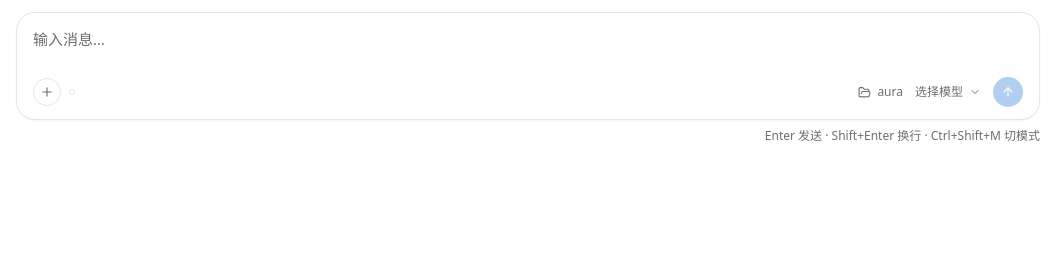
it: InputArea 的 @ / 触发 › /model 在未收藏任何模型时仍列出可用模型
Type "/model" into the text box at (528, 49), box left=33, top=25, right=1023, bottom=73
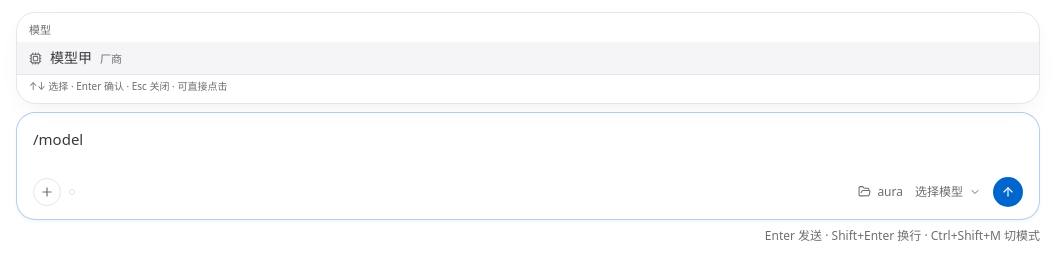
Expected: the text "模型甲" is shown, left=50, top=48, right=92, bottom=68
